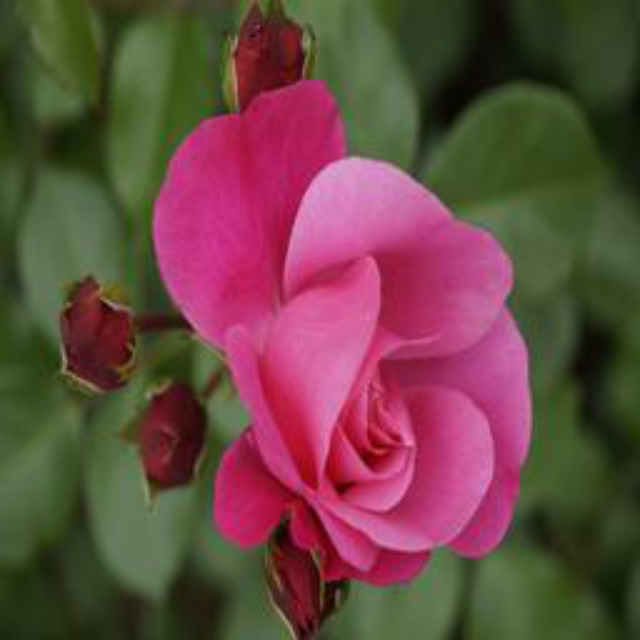rose: (137, 75, 534, 609), (254, 513, 356, 636), (119, 376, 218, 502), (53, 269, 144, 402), (218, 2, 318, 115)
